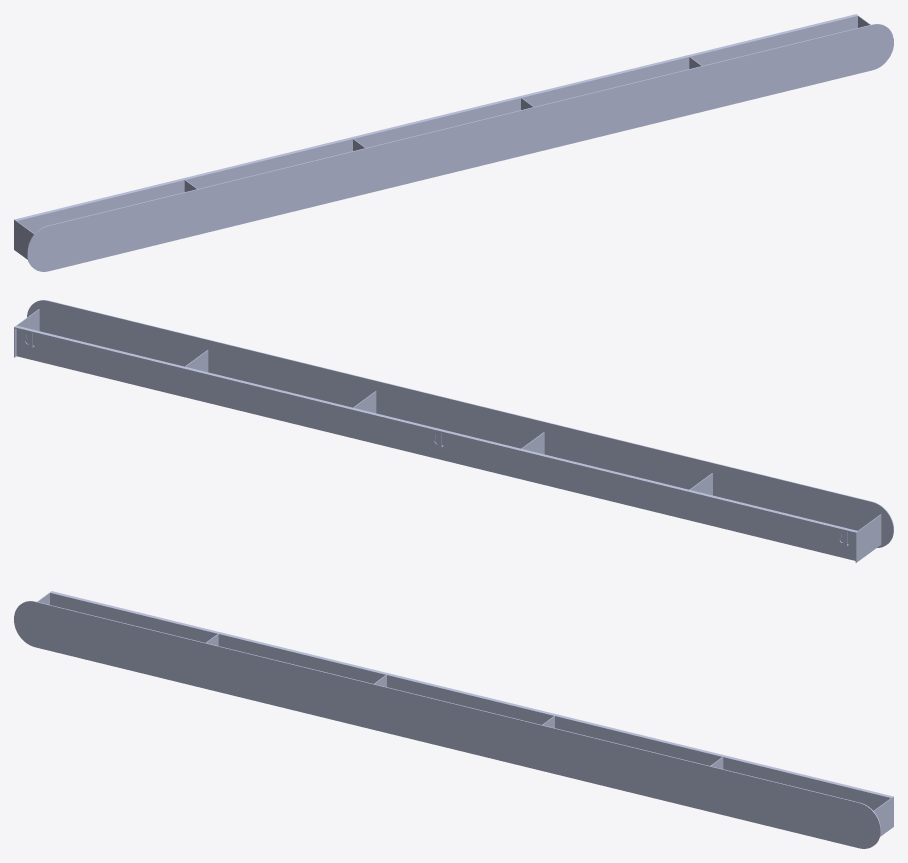
File: round-mono.c2f66fd158.glb
3 renders of one model, top to bottom at view 1: azimuth 30°, elevation 25°; view 2: azimuth 150°, elevation 25°; view 3: azimuth 330°, elevation 25°, orthographic.
Visible parts, largest first — view 1: NAUO1; view 2: NAUO1; view 3: NAUO1.
Part boxes in pixels (x1=…): NAUO1: x1=14, y1=14, x2=893, y2=271; NAUO1: x1=14, y1=300, x2=893, y2=562; NAUO1: x1=14, y1=591, x2=893, y2=848.
Bounding box in the file's own units: 1.8 × 0.0901 × 0.0921.
